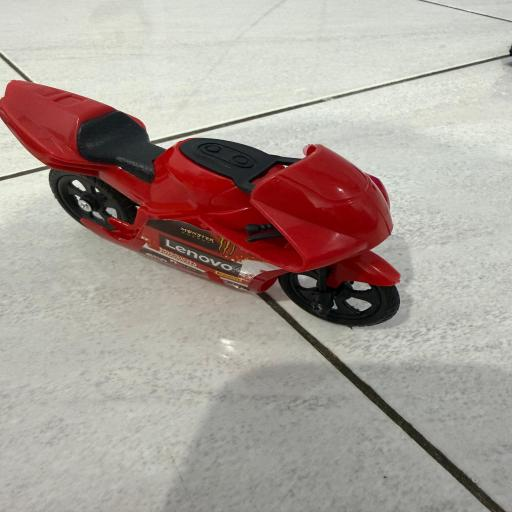motor-merah: (2, 76, 406, 336)
